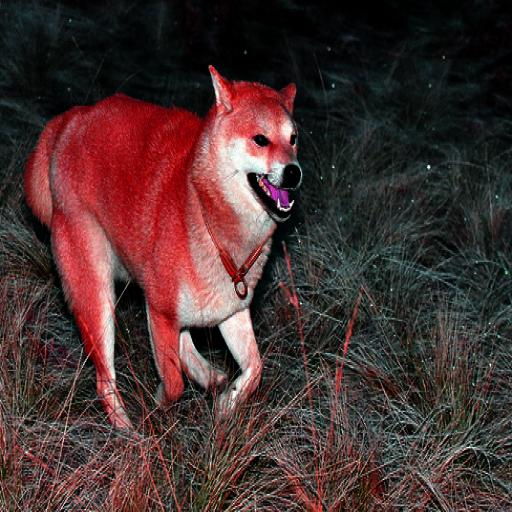dog_face: (207, 64, 304, 222)
